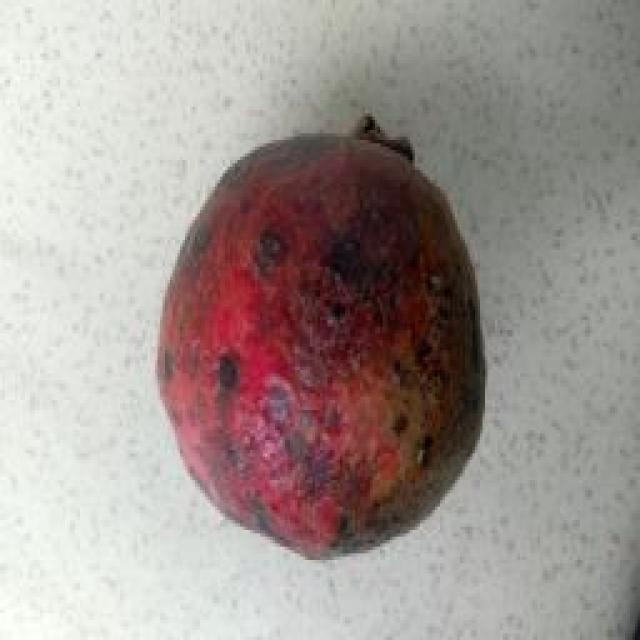overripe: (152, 100, 494, 567)
